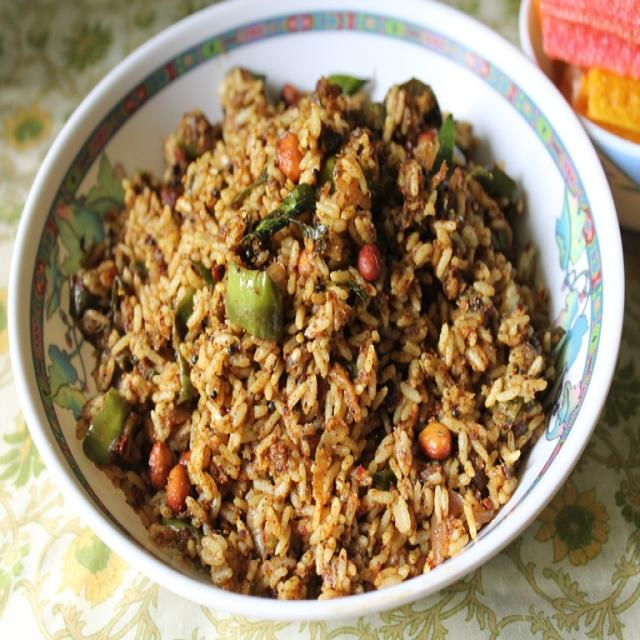vangi bath: (68, 40, 575, 615)
